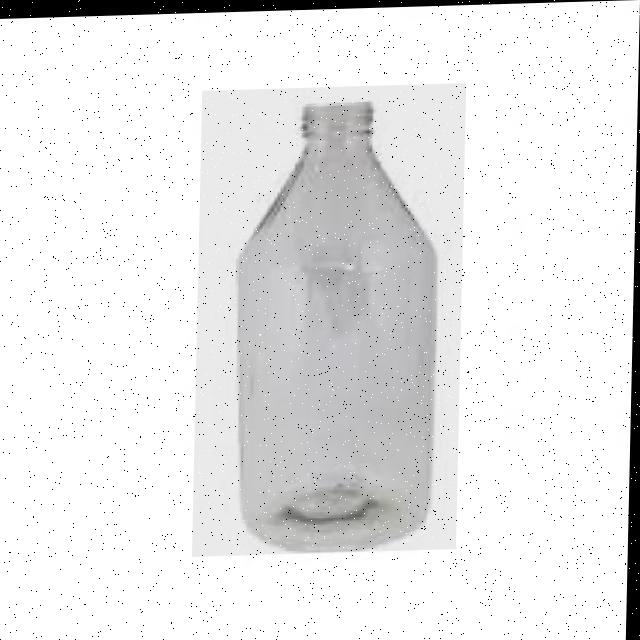plastic: (194, 82, 467, 554)
